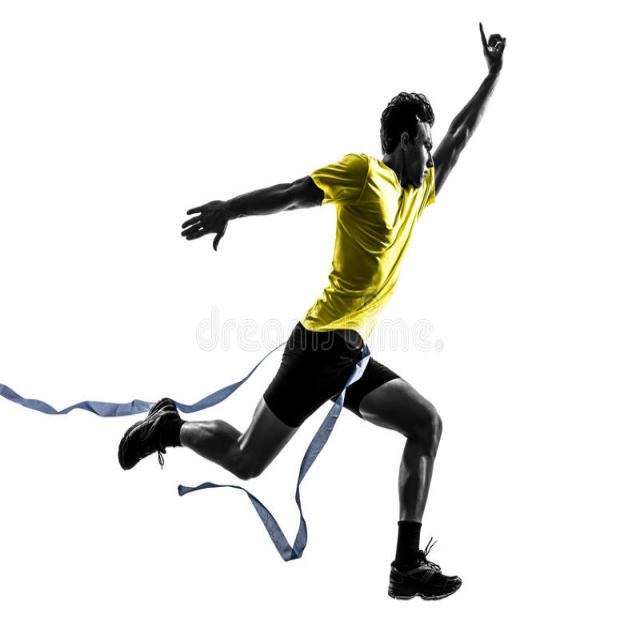running: (124, 17, 513, 597)
